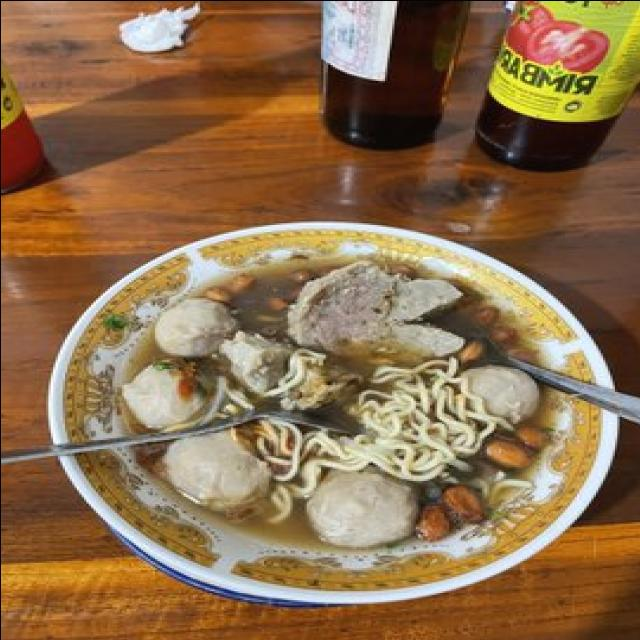bakso: (121, 263, 557, 546)
